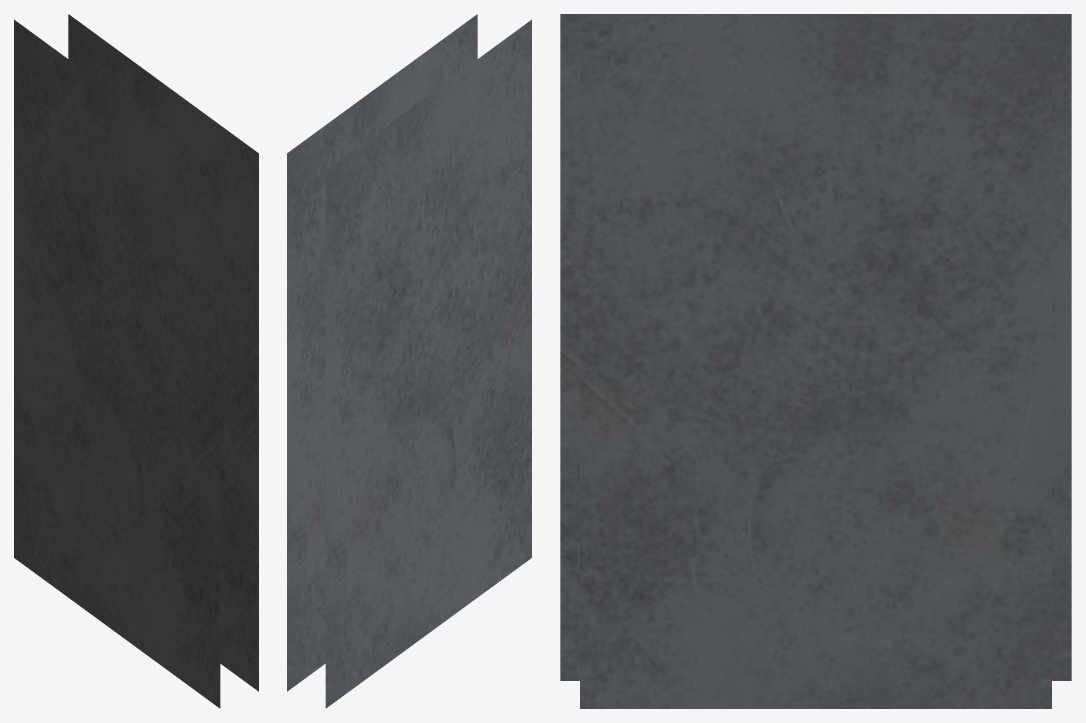
File: 6way_wall.fbx
3 views of the same model, side by side, from view 1: azimuth 30°, elevation 25°; view 2: azimuth 150°, elevation 25°; view 3: azimuth 270°, elevation 25° (orthographic). The views are drawn at different scales.
Parts seen in each view (by area): view 1: 6wayBlockade; view 2: 6wayBlockade; view 3: 6wayBlockade.
Part boxes in pixels (<box>): 6wayBlockade: <box>14,14,258,708</box>; 6wayBlockade: <box>287,14,531,708</box>; 6wayBlockade: <box>560,14,1071,708</box>.
Size of the model in its own units: 0.4119 by 4.56 by 3.17.
